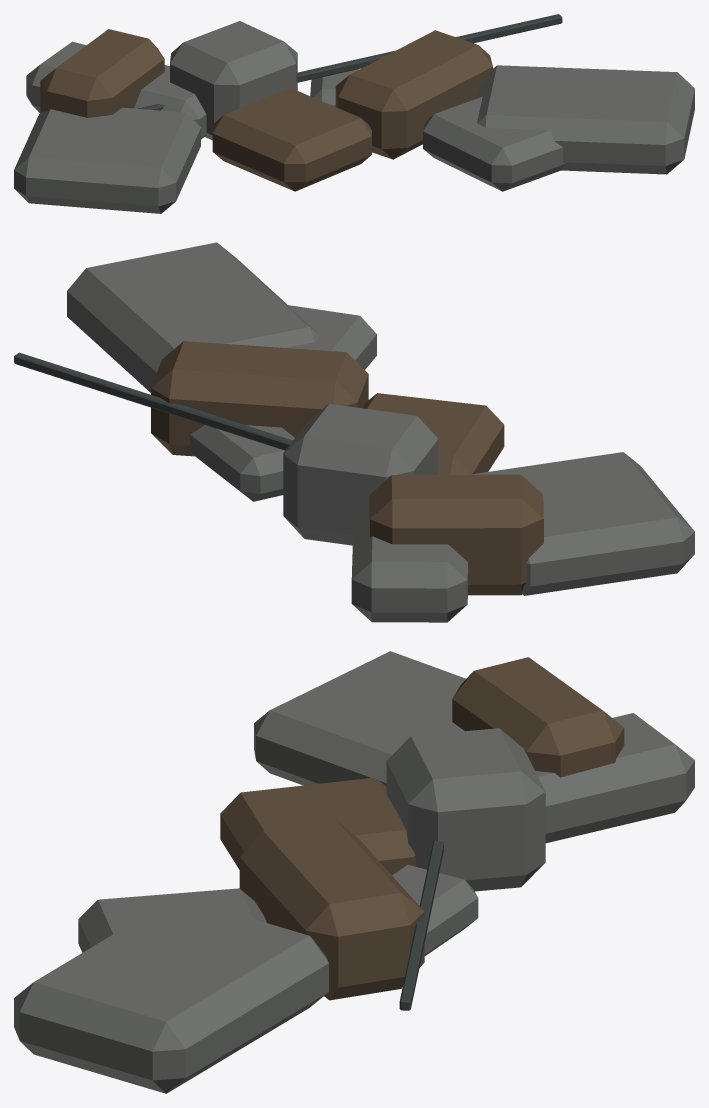
Rendered from Rubble01.fbx.
3 renders of one model, top to bottom at view 1: azimuth 30°, elevation 25°; view 2: azimuth 150°, elevation 25°; view 3: azimuth 270°, elevation 25°, orthographic. The views are drawn at different scales.
Visible parts, largest first — view 1: Broken_Masonry.002, Broken_Masonry.007, Broken_Masonry, Broken_Masonry.003, Broken_Masonry.008, Broken_Masonry.001, Broken_Masonry.006, Broken_Masonry.004, Bent_Rebar, Broken_Masonry.005; view 2: Broken_Masonry.002, Broken_Masonry.007, Broken_Masonry, Broken_Masonry.006, Broken_Masonry.008, Broken_Masonry.004, Broken_Masonry.003, Broken_Masonry.005, Bent_Rebar, Broken_Masonry.001; view 3: Broken_Masonry.002, Broken_Masonry, Broken_Masonry.008, Broken_Masonry.007, Broken_Masonry.006, Broken_Masonry.004, Broken_Masonry.003, Broken_Masonry.001, Broken_Masonry.005, Bent_Rebar.
Part boxes in pixels (x1,y1,x2,y2): Broken_Masonry.002: (476,65,694,174); Broken_Masonry.007: (14,107,200,213); Broken_Masonry: (335,30,492,159); Broken_Masonry.003: (212,88,371,191); Broken_Masonry.008: (170,21,297,140); Broken_Masonry.001: (423,96,565,191); Broken_Masonry.006: (40,29,164,117); Broken_Masonry.004: (26,41,207,139); Bent_Rebar: (137,14,562,110); Broken_Masonry.005: (310,69,359,106); Broken_Masonry.002: (67,242,320,392); Broken_Masonry.007: (471,452,694,595); Broken_Masonry: (151,341,368,456); Broken_Masonry.006: (369,474,543,595); Broken_Masonry.008: (283,404,438,545); Broken_Masonry.004: (351,501,468,622); Broken_Masonry.003: (363,393,504,474); Broken_Masonry.005: (186,425,294,501); Bent_Rebar: (14,352,292,450); Broken_Masonry.001: (285,305,376,369); Broken_Masonry.002: (14,896,328,1093); Broken_Masonry: (239,819,424,1000); Broken_Masonry.008: (386,728,545,891); Broken_Masonry.007: (254,651,465,786); Broken_Masonry.006: (452,657,624,777); Broken_Masonry.004: (535,713,694,843); Broken_Masonry.003: (220,777,415,874); Broken_Masonry.001: (78,888,266,952); Broken_Masonry.005: (392,865,478,955); Bent_Rebar: (399,840,443,1010).
Size of the model in its own units: 149 by 20.44 by 109.
